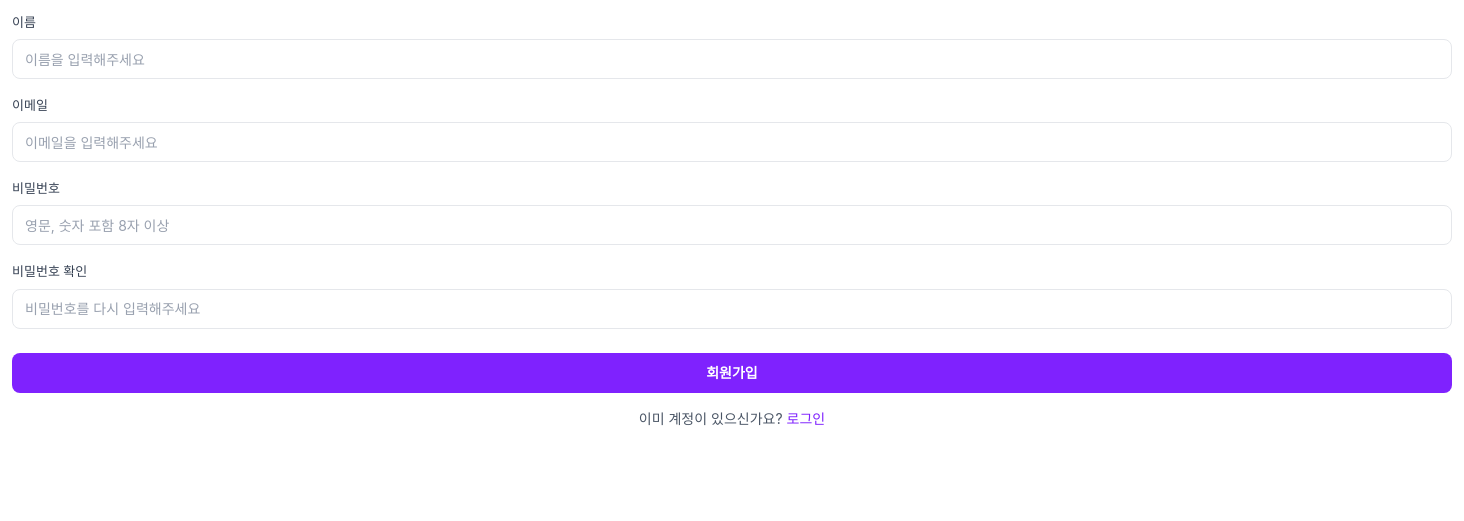
Test case: SignupForm › 비밀번호 확인이 일치하지 않으면 에러 메시지가 표시된다
The width and height of the screenshot is (1464, 521).
Type "password123" into the password field labelled "비밀번호" at (732, 225), box [12, 205, 1452, 245]
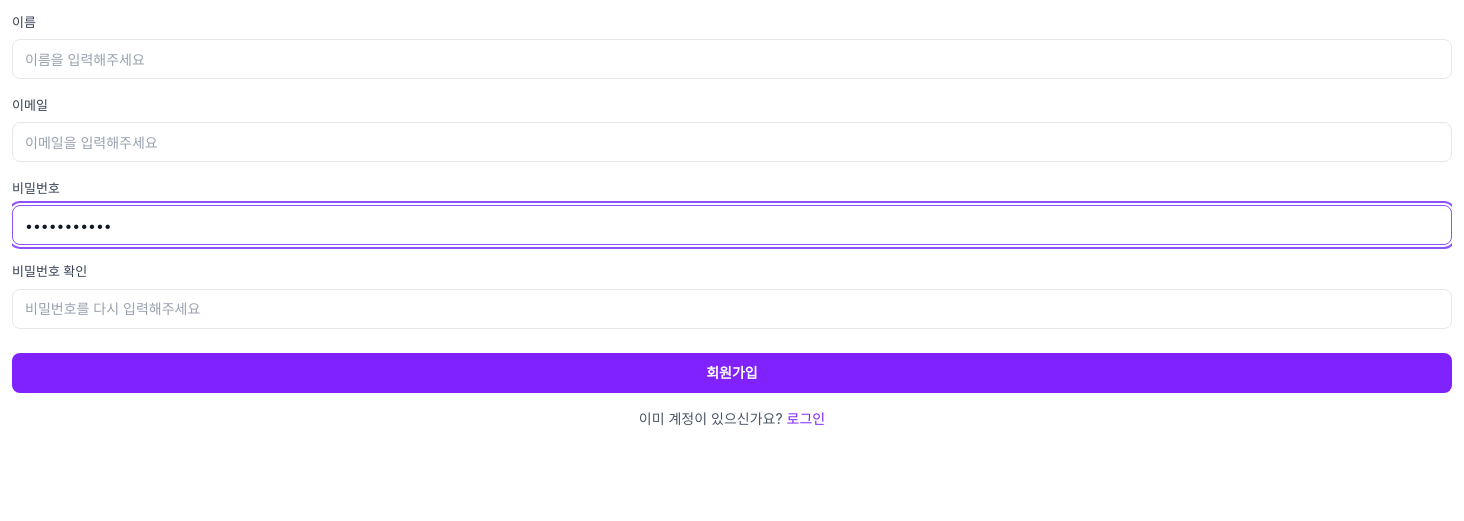
Type "different123" into the password field labelled "비밀번호 확인" at (732, 308), box [12, 288, 1452, 328]
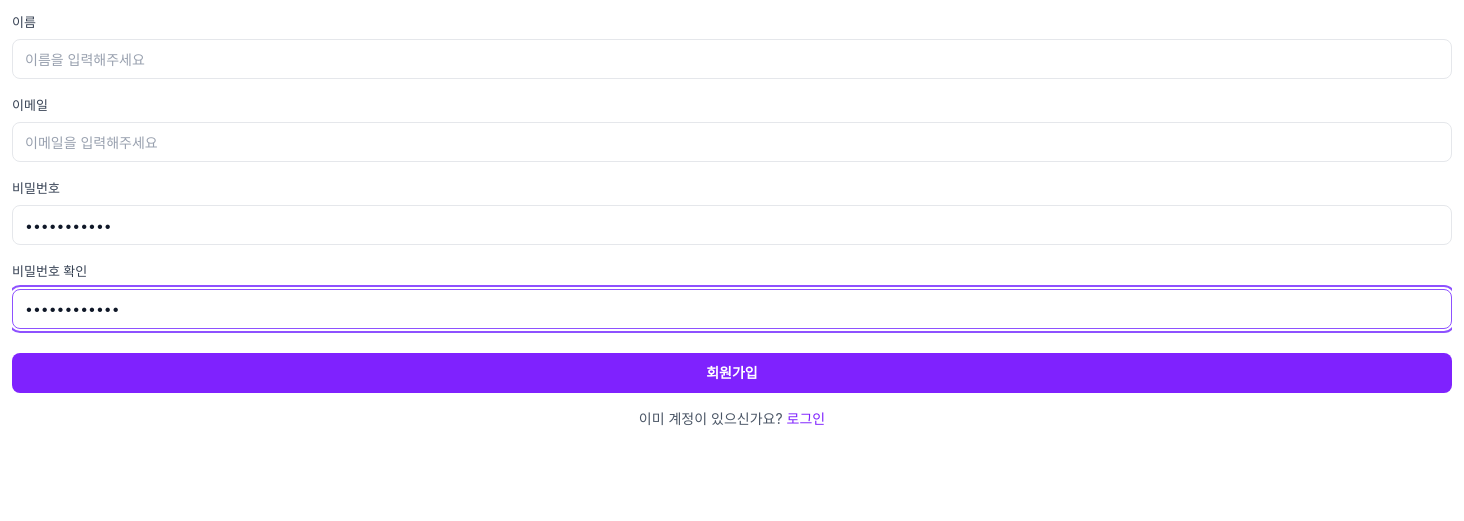
Click the button "회원가입" at (732, 372), box [12, 352, 1452, 392]
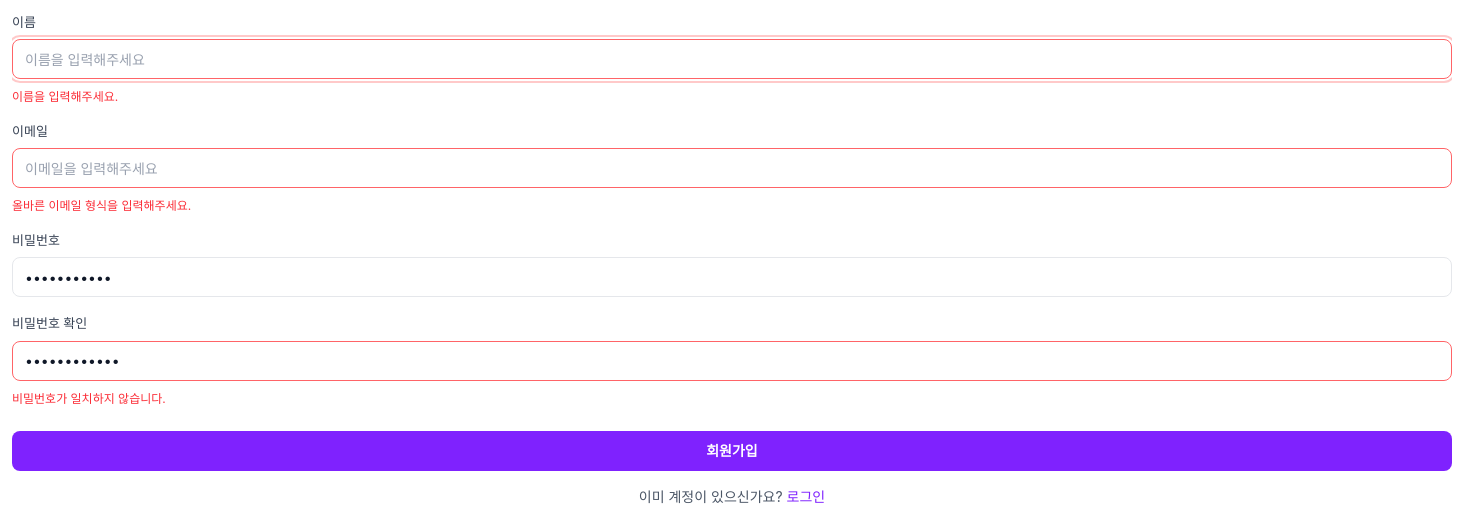
Check: the text "비밀번호가 일치하지 않습니다." is shown, box [12, 390, 166, 406]
